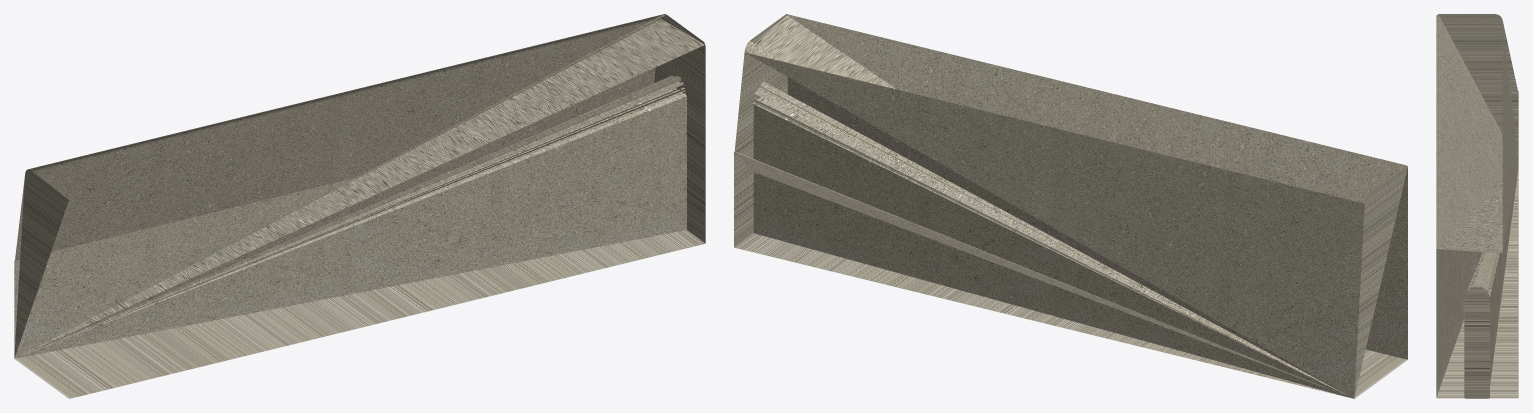
The model's file is BIMobject_Hochbord_12-15x100x30_Fase3.glb.
The picture shows the model from 3 angles, left to right: view 1: azimuth 30°, elevation 25°; view 2: azimuth 150°, elevation 25°; view 3: azimuth 270°, elevation 25°; orthographic projection. The views are drawn at different scales.
Parts seen in each view (by area): view 1: world; view 2: world; view 3: world.
Boxes of the visible parts, x1,y1,x2,y2 form: world: (14,14,705,398); world: (734,14,1407,398); world: (1436,14,1518,398).
Size of the model in its own units: 0.999 by 0.3 by 0.149.
Materials: 1 (1 with a texture image).
